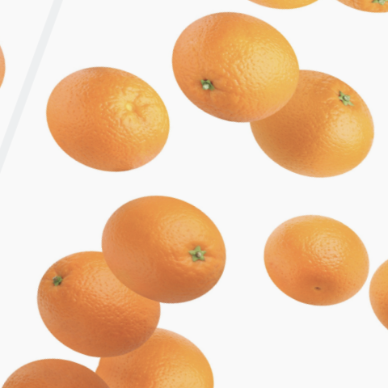orange: (4, 224, 187, 379), (17, 45, 191, 206), (148, 0, 323, 146), (82, 176, 250, 327), (229, 47, 388, 199), (249, 193, 387, 326), (96, 300, 239, 388)
